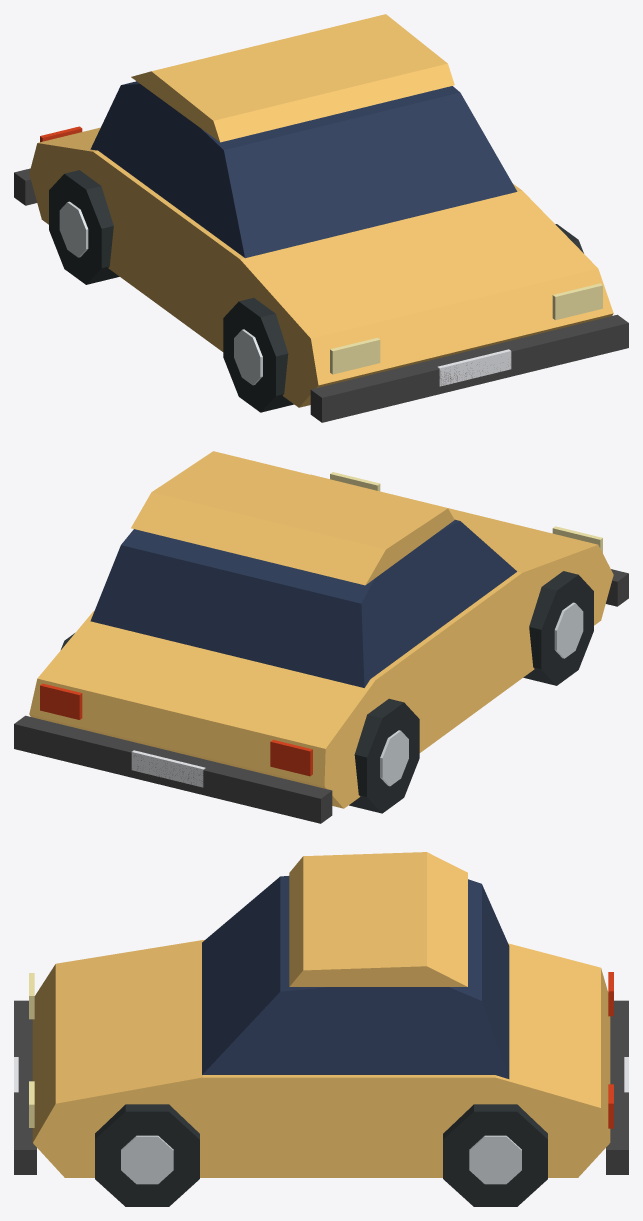
The model's file is auto-gelb.glb.
3 views of the same model, one above another, from view 1: azimuth 30°, elevation 25°; view 2: azimuth 150°, elevation 25°; view 3: azimuth 270°, elevation 25° (orthographic).
Parts seen in each view (by area): view 1: auto-gelb-karosserie, auto-gelb-kabine, auto-gelb-dach, auto-gelb-stoss, wheel-fr, wheel-rr, auto-gelb-schild, auto-gelb-scheinwerfer, auto-gelb-scheinwerfer.001, auto-gelb-stoss.001; view 2: auto-gelb-karosserie, auto-gelb-kabine, auto-gelb-dach, auto-gelb-stoss.001, wheel-rr, wheel-fr, auto-gelb-schild.001, auto-gelb-ruecklicht, auto-gelb-ruecklicht.001, auto-gelb-stoss; view 3: auto-gelb-karosserie, auto-gelb-kabine, auto-gelb-dach, wheel-fl, wheel-rl, auto-gelb-stoss.001, auto-gelb-stoss.
Part boxes in pixels (<box>): auto-gelb-karosserie: <box>29,127,613,407</box>; auto-gelb-kabine: <box>90,81,517,258</box>; auto-gelb-dach: <box>131,14,454,142</box>; auto-gelb-stoss: <box>310,314,628,422</box>; wheel-fr: <box>223,298,293,412</box>; wheel-rr: <box>49,170,119,284</box>; auto-gelb-schild: <box>437,349,511,386</box>; auto-gelb-scheinwerfer: <box>330,337,380,374</box>; auto-gelb-scheinwerfer.001: <box>552,283,602,320</box>; auto-gelb-stoss.001: <box>14,168,36,205</box>; auto-gelb-karosserie: <box>29,474,613,808</box>; auto-gelb-kabine: <box>90,519,516,687</box>; auto-gelb-dach: <box>131,451,454,585</box>; auto-gelb-stoss.001: <box>14,715,332,823</box>; wheel-rr: <box>349,698,419,813</box>; wheel-fr: <box>523,571,593,685</box>; auto-gelb-schild.001: <box>131,750,205,787</box>; auto-gelb-ruecklicht: <box>270,739,312,776</box>; auto-gelb-ruecklicht.001: <box>40,683,82,719</box>; auto-gelb-stoss: <box>606,569,628,606</box>; auto-gelb-karosserie: <box>32,940,610,1177</box>; auto-gelb-kabine: <box>202,876,509,1078</box>; auto-gelb-dach: <box>289,852,467,986</box>; wheel-fl: <box>95,1104,199,1206</box>; wheel-rl: <box>443,1104,547,1206</box>; auto-gelb-stoss.001: <box>606,1000,628,1174</box>; auto-gelb-stoss: <box>14,1000,36,1174</box>.
Bounding box in the file's own units: 4.06 × 2.65 × 6.71.
